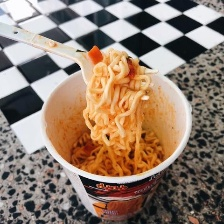paper_cup: (34, 55, 197, 223)
